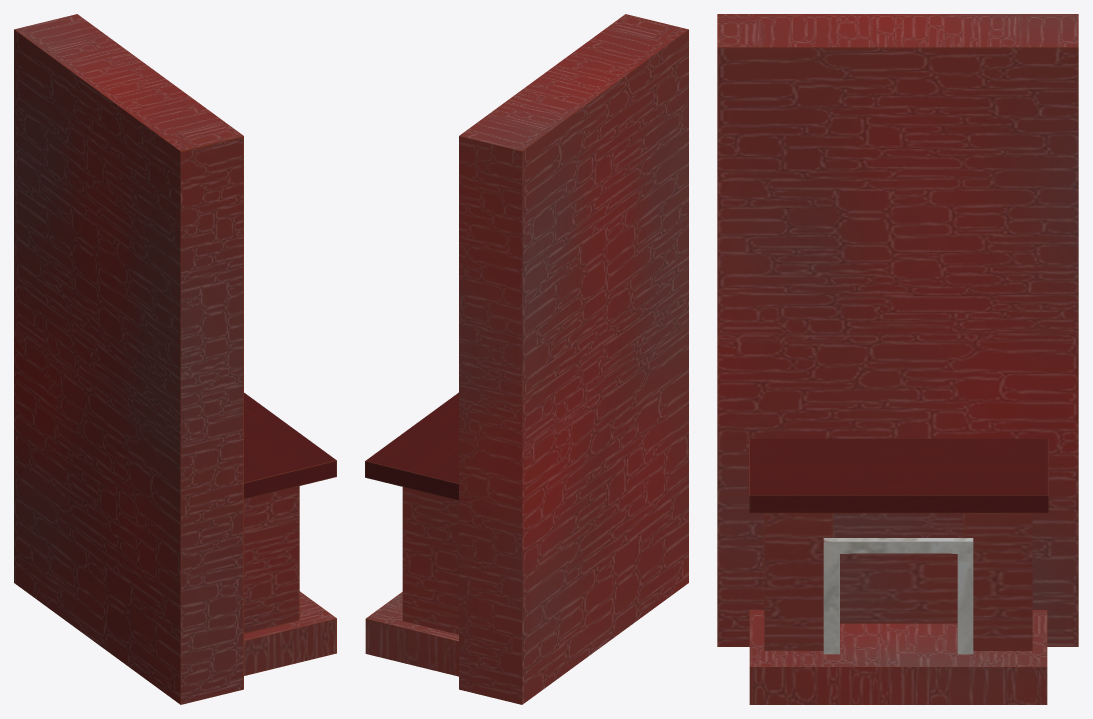
File: fireplace.fbx
The picture shows the model from 3 angles, left to right: view 1: azimuth 30°, elevation 25°; view 2: azimuth 150°, elevation 25°; view 3: azimuth 270°, elevation 25°; orthographic projection. The views are drawn at different scales.
Parts seen in each view (by area): view 1: Cube.002; view 2: Cube.002; view 3: Cube.002.
Boxes of the visible parts, <box> form: Cube.002: <box>14,14,336,704</box>; Cube.002: <box>365,14,688,704</box>; Cube.002: <box>717,14,1078,704</box>.
Size of the model in its own units: 317 by 984 by 536.
Materials: 1 (1 with a texture image).
